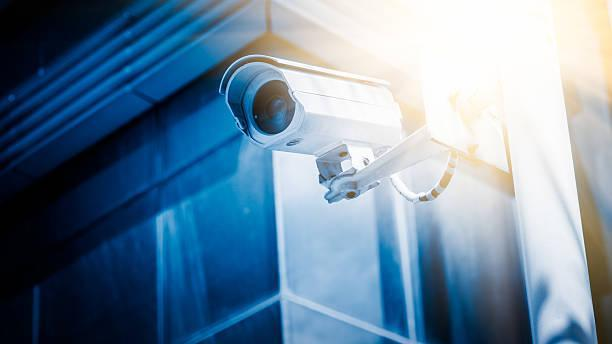camera: (200, 36, 418, 188)
